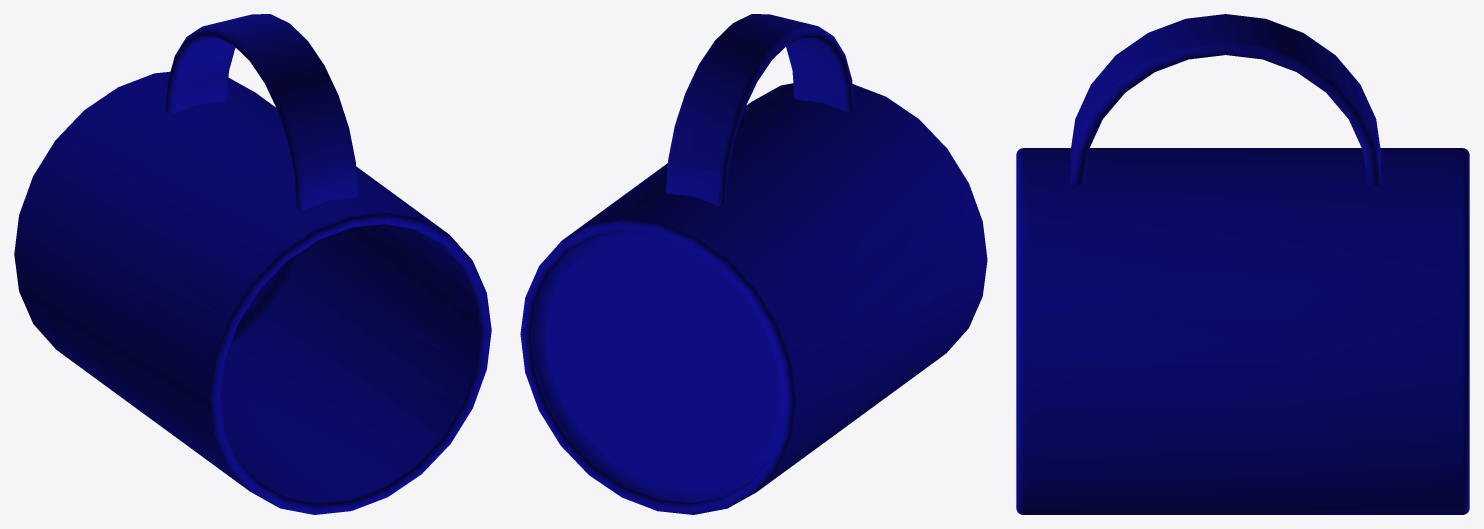
Rendered from model_align.obj.
3 renders of one model, left to right at view 1: azimuth 30°, elevation 25°; view 2: azimuth 150°, elevation 25°; view 3: azimuth 270°, elevation 25°, orthographic. The views are drawn at different scales.
Visible parts, largest first — view 1: mesh2_mesh2-geometry, mesh1_mesh1-geometry; view 2: mesh2_mesh2-geometry, mesh1_mesh1-geometry; view 3: mesh2_mesh2-geometry, mesh1_mesh1-geometry.
Part boxes in pixels (bbox=[...]): mesh2_mesh2-geometry: bbox=[14, 71, 491, 514]; mesh1_mesh1-geometry: bbox=[165, 14, 358, 210]; mesh2_mesh2-geometry: bbox=[520, 83, 987, 514]; mesh1_mesh1-geometry: bbox=[666, 14, 854, 205]; mesh2_mesh2-geometry: bbox=[1016, 148, 1469, 514]; mesh1_mesh1-geometry: bbox=[1070, 14, 1381, 185].
Size of the model in its own units: 0.0819 by 0.1155 by 0.1008.
